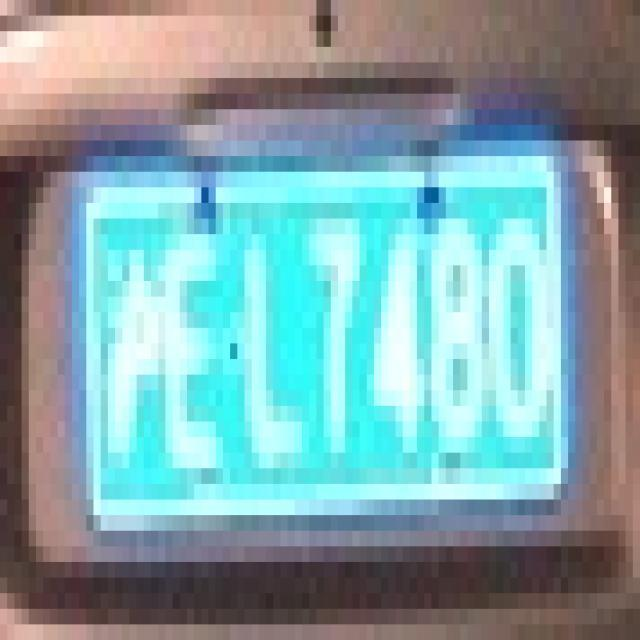licenseplate: (70, 120, 597, 582)
